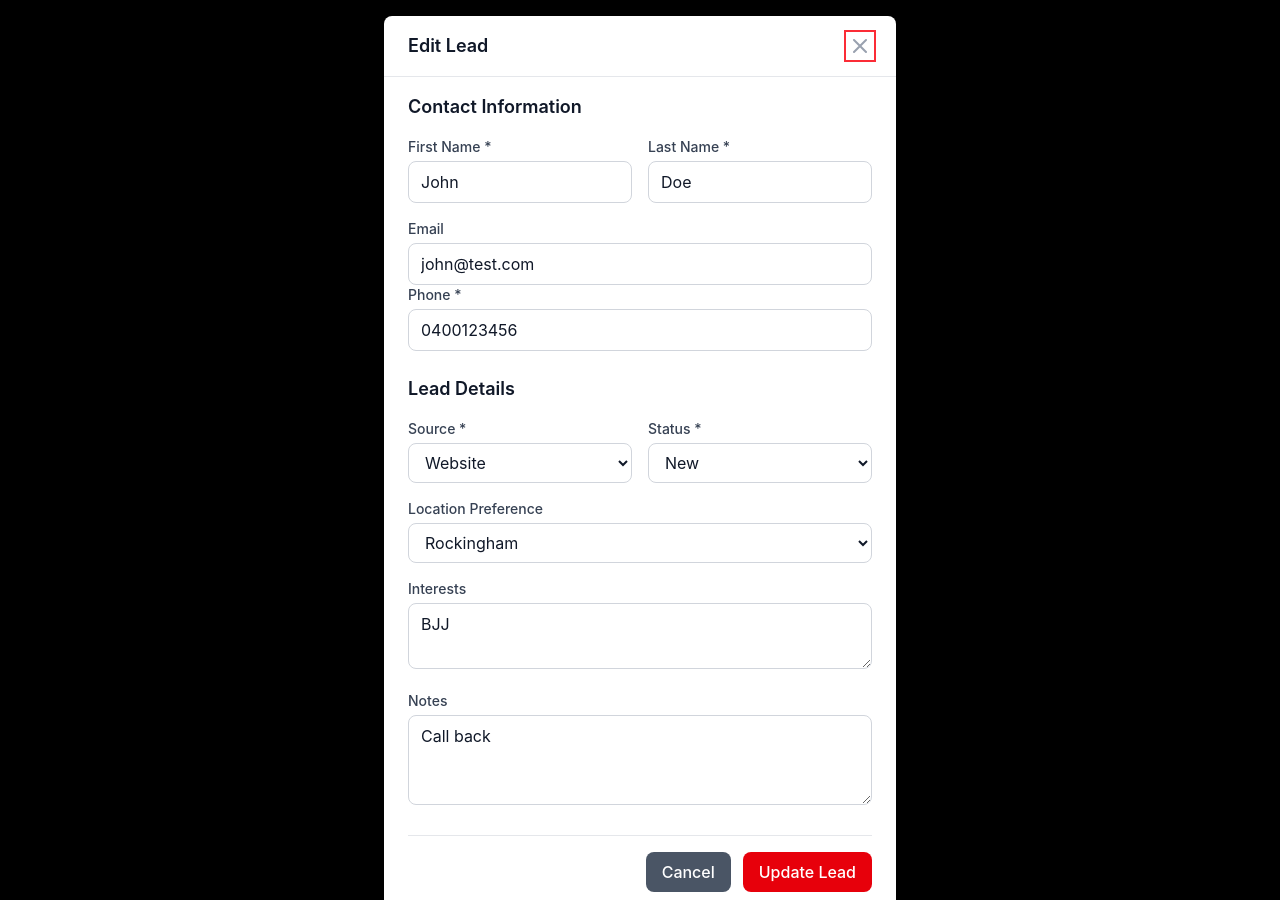
Test: EditLeadModal › shows error on API failure
The width and height of the screenshot is (1280, 900).
Step 1. Click the button "Update Lead" → (807, 872), box [743,852,872,892]
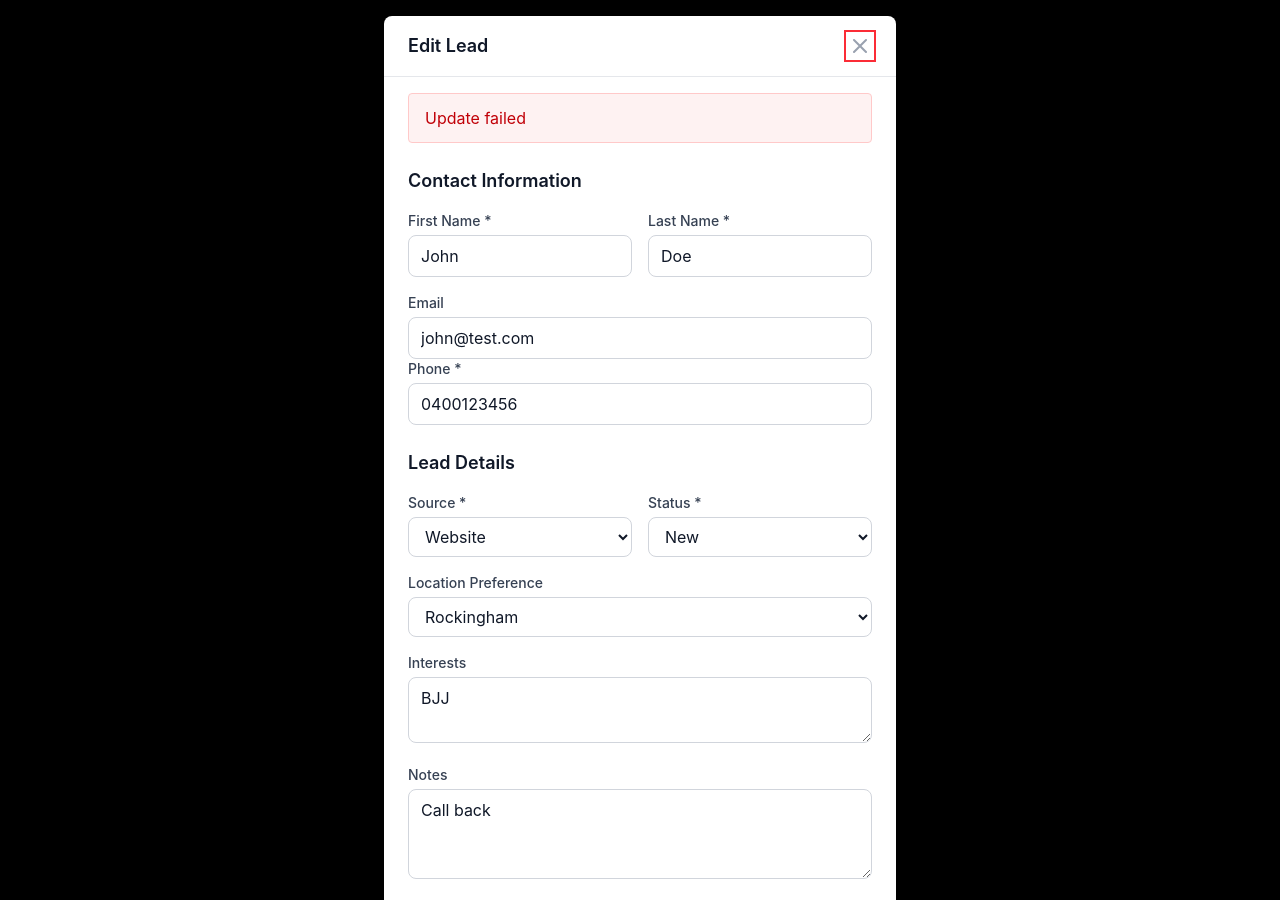
Now the text "Update failed" is shown, box [408,93,872,143]
